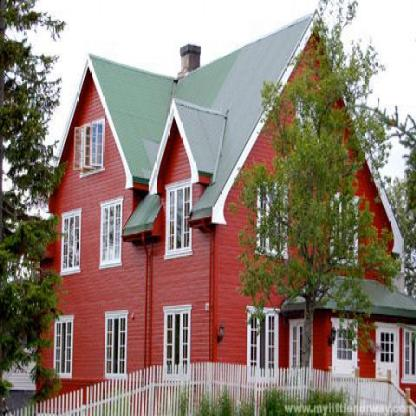other: (46, 64, 238, 358), (332, 210, 414, 403)
